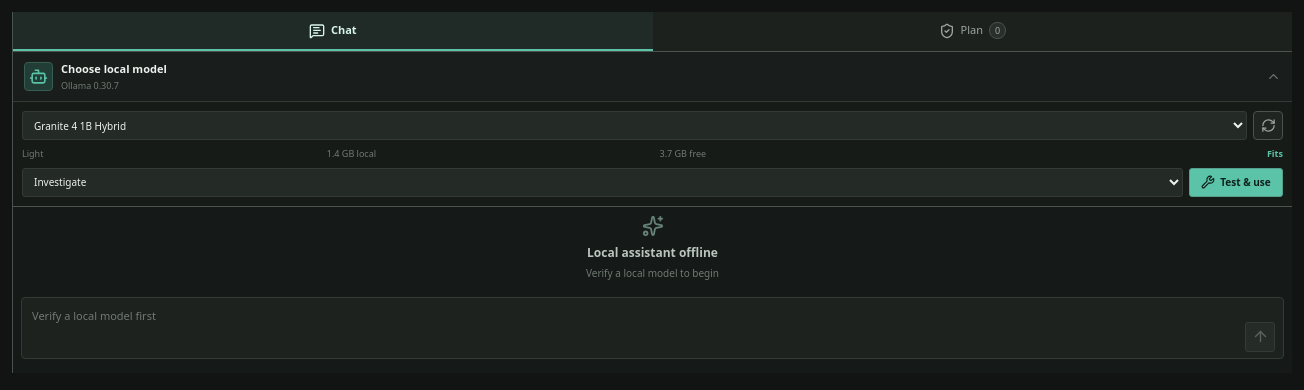
AgentDock › renders typed bounded tool results in the assistant turn
Click the button "Test & use" at (1236, 182), box [1189, 168, 1283, 196]
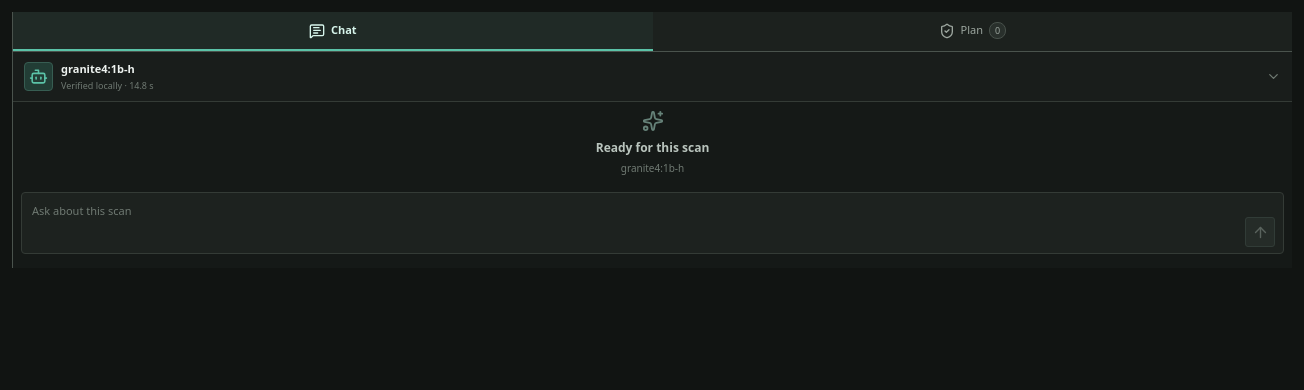
expect the text "Ready for this scan" is shown: met, box [596, 139, 709, 157]
Type "Largest item" into the text box named "Message ClutterHunter" at (634, 223), box [28, 199, 1239, 247]
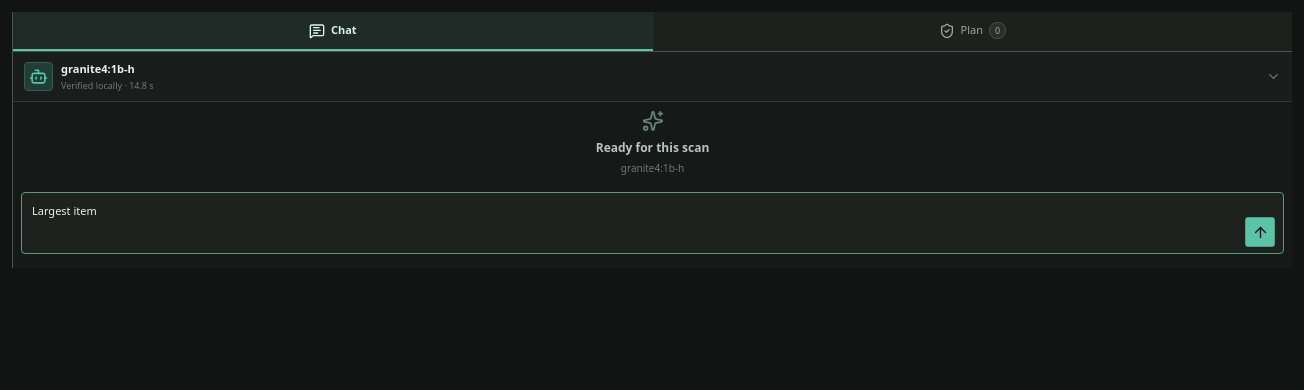
Click the button named "Send message" at (1260, 232), box [1245, 217, 1275, 247]
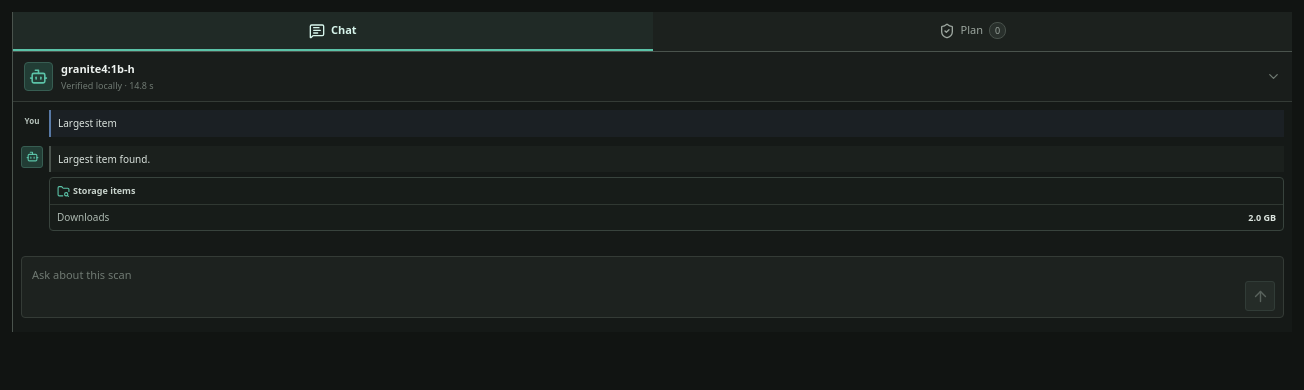
expect the element "Storage items" is shown: met, box [49, 177, 1284, 231]
expect the text "Downloads" is shown: met, box [57, 210, 109, 224]
expect the text "2.0 GB" is shown: met, box [1248, 211, 1276, 224]
